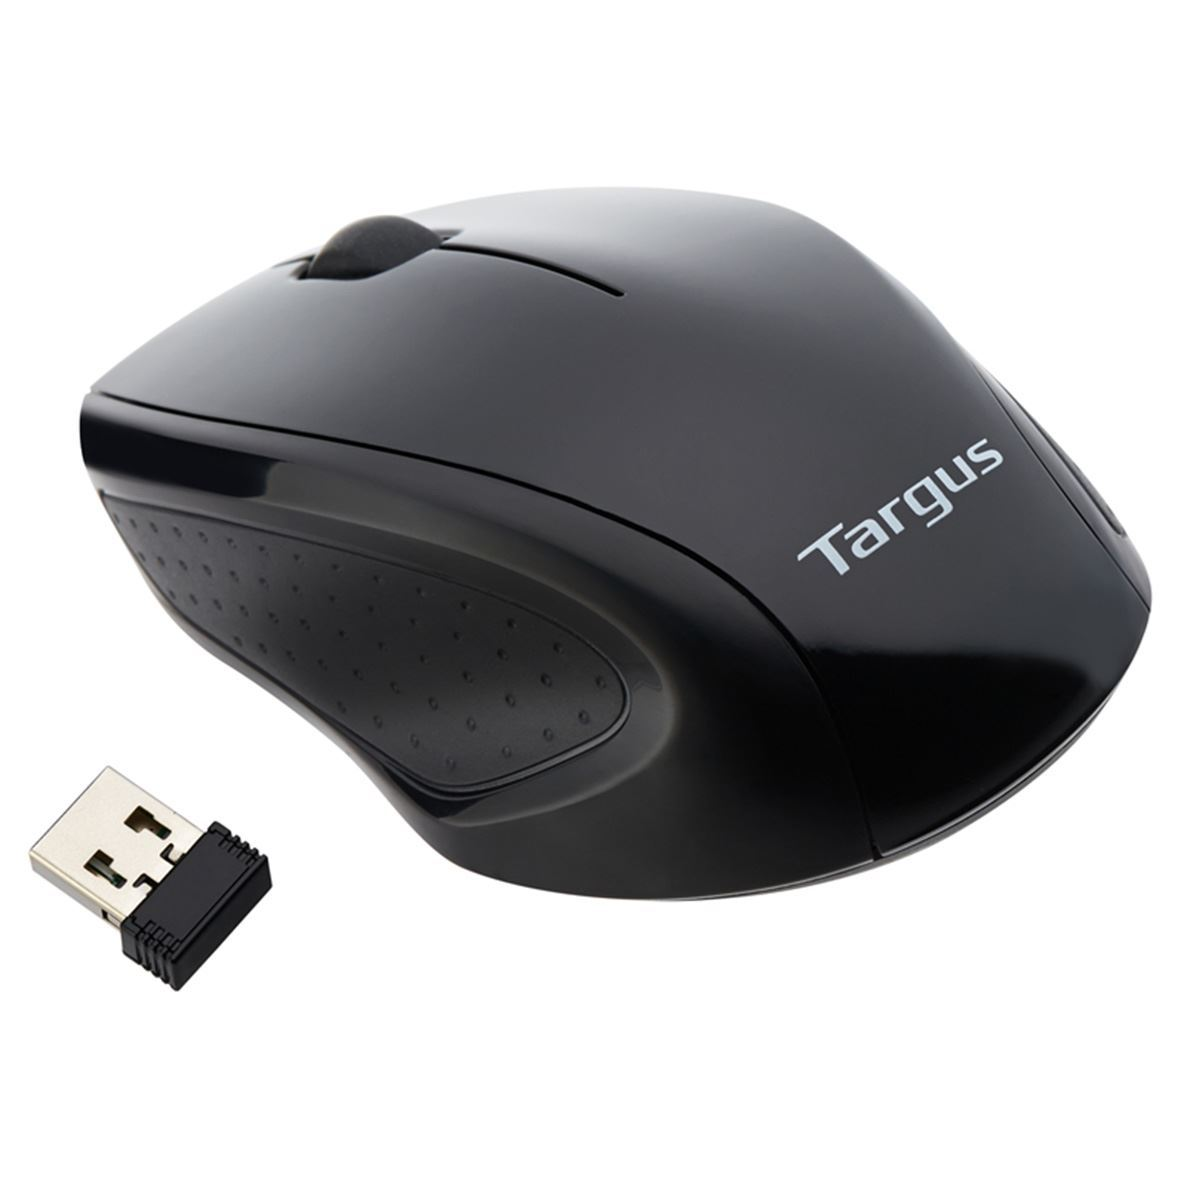Mouse: (47, 171, 1170, 931)
